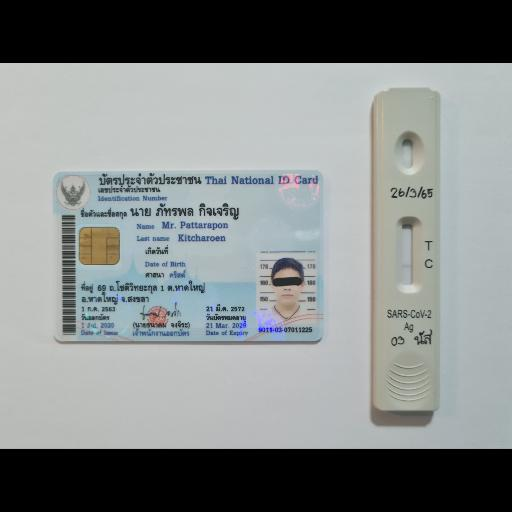Neg: (374, 87, 440, 413)
